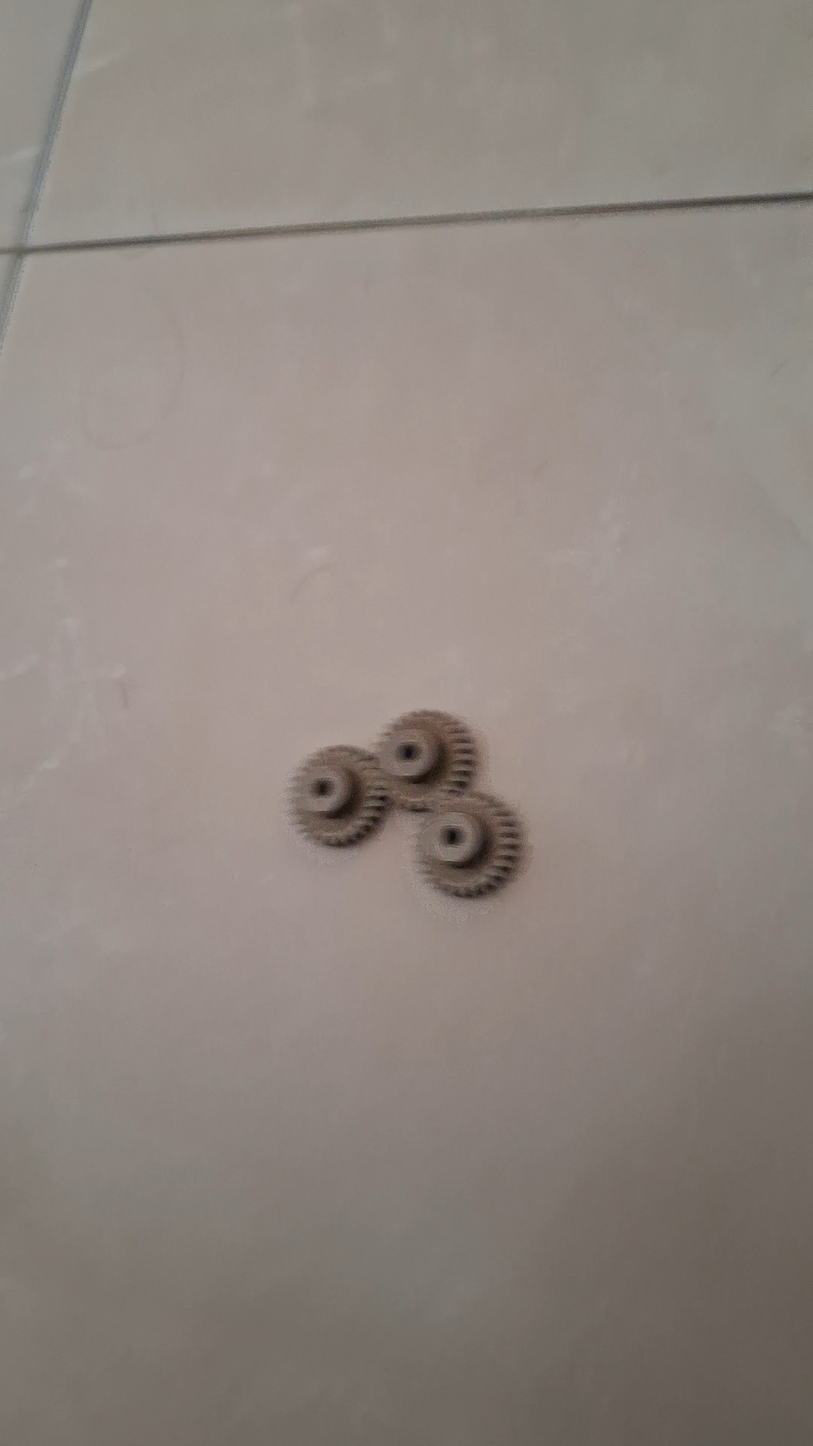spur gear: (418, 793, 522, 897), (290, 746, 389, 847), (379, 710, 477, 810)
